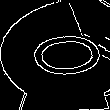O_E: (7, 28, 103, 82)
